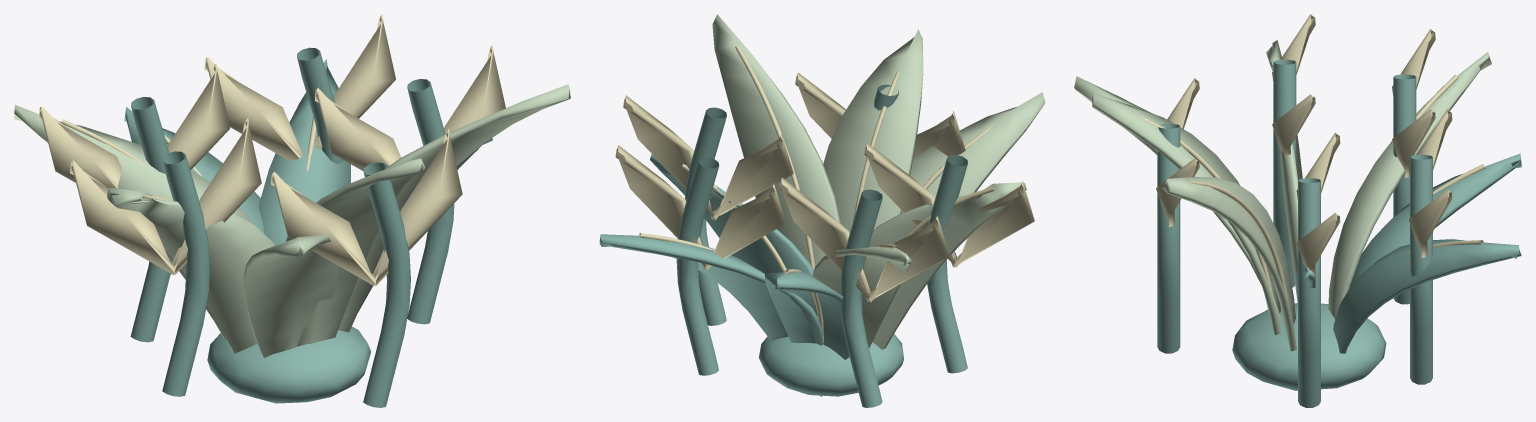
Rendered from bio_mist_leaf_02_far.glb.
The picture shows the model from 3 angles, left to right: view 1: azimuth 30°, elevation 25°; view 2: azimuth 150°, elevation 25°; view 3: azimuth 270°, elevation 25°; orthographic projection. The views are drawn at different scales.
Visible parts, largest first — view 1: Root rosette, Cupped condensate leaf.007, Secondary fan lobe.004, Cupped condensate leaf.004, Secondary fan lobe.008, Secondary fan lobe.006, Secondary fan lobe.002, Branching support.004, Branching support.002, Secondary fan lobe, Cupped condensate leaf.002, Cupped condensate leaf.003 (+6 smaller); view 2: Cupped condensate leaf.002, Cupped condensate leaf.005, Cupped condensate leaf.003, Secondary fan lobe, Root rosette, Secondary fan lobe.006, Secondary fan lobe.002, Cupped condensate leaf.004, Cupped condensate leaf.007, Secondary fan lobe.008, Branching support.001, Branching support.003 (+8 smaller); view 3: Root rosette, Cupped condensate leaf.003, Cupped condensate leaf.001, Cupped condensate leaf.005, Cupped condensate leaf.002, Branching support, Branching support.002, Branching support.003, Cupped condensate leaf.006, Branching support.004, Branching support.001, Secondary fan lobe.006 (+8 smaller).
Boxes of the visible parts, x1,y1,x2,y2 form: Root rosette: (207, 326, 370, 403); Cupped condensate leaf.007: (243, 234, 339, 357); Secondary fan lobe.004: (271, 129, 462, 285); Cupped condensate leaf.004: (107, 187, 274, 353); Secondary fan lobe.008: (70, 118, 261, 274); Secondary fan lobe.006: (204, 14, 395, 160); Secondary fan lobe.002: (38, 63, 229, 188); Branching support.004: (162, 151, 209, 396); Branching support.002: (363, 162, 410, 407); Secondary fan lobe: (314, 45, 505, 171); Cupped condensate leaf.002: (285, 158, 425, 346); Cupped condensate leaf.003: (259, 59, 350, 245); Cupped condensate leaf.002: (823, 29, 923, 233); Cupped condensate leaf.005: (712, 14, 840, 266); Cupped condensate leaf.003: (599, 234, 822, 345); Secondary fan lobe: (623, 95, 793, 220); Root rosette: (759, 334, 903, 396); Secondary fan lobe.006: (615, 145, 785, 270); Secondary fan lobe.002: (779, 177, 949, 302); Cupped condensate leaf.004: (868, 182, 1026, 349); Cupped condensate leaf.007: (901, 92, 1045, 212); Secondary fan lobe.008: (864, 143, 1034, 267); Branching support.001: (840, 189, 882, 407); Branching support.003: (676, 157, 719, 375); Root rosette: (1232, 303, 1386, 390); Cupped condensate leaf.003: (1333, 239, 1521, 353); Cupped condensate leaf.001: (1328, 52, 1491, 319); Cupped condensate leaf.005: (1162, 177, 1296, 351); Cupped condensate leaf.002: (1092, 93, 1280, 335); Branching support: (1298, 178, 1320, 407); Branching support.002: (1157, 123, 1180, 353); Branching support.003: (1410, 154, 1432, 384); Cupped condensate leaf.006: (1349, 153, 1521, 288); Branching support.004: (1273, 59, 1296, 287); Branching support.001: (1393, 74, 1416, 304); Secondary fan lobe.006: (1408, 109, 1452, 258).
Size of the model in its own units: 1.85 by 1.25 by 1.74.
